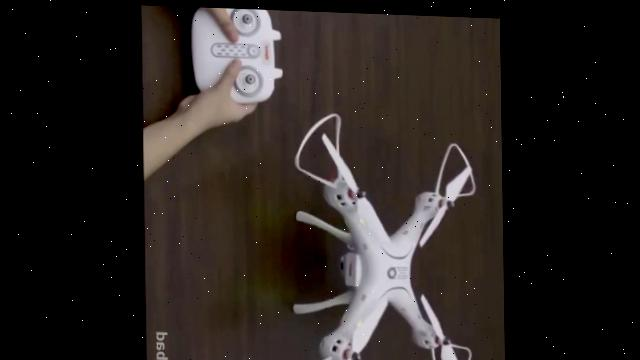drone: (281, 107, 479, 360)
